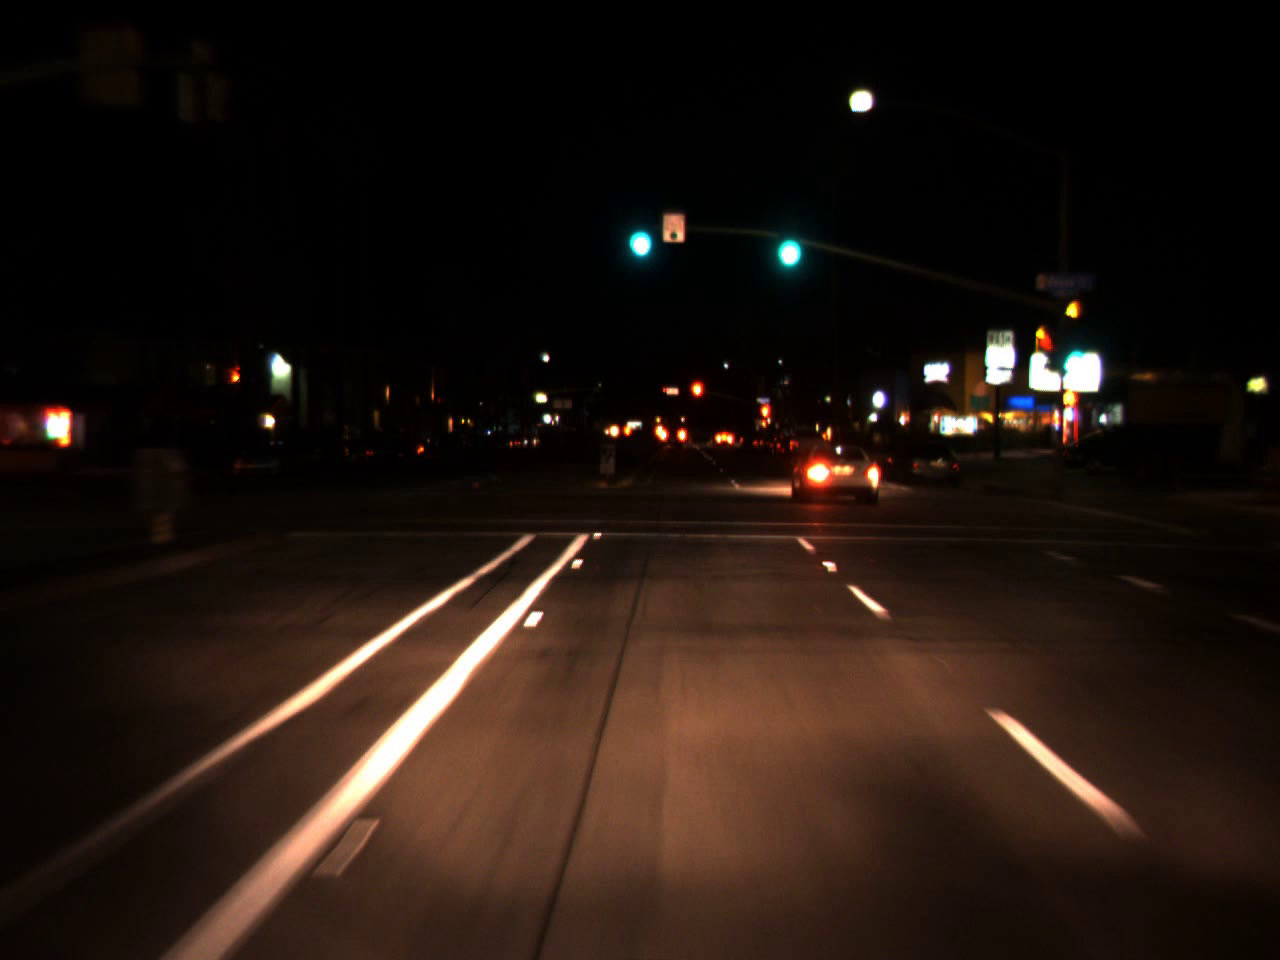go: (768, 203, 805, 278), (620, 198, 656, 267), (1056, 333, 1089, 378)
stop: (688, 378, 706, 415), (758, 400, 771, 437)
